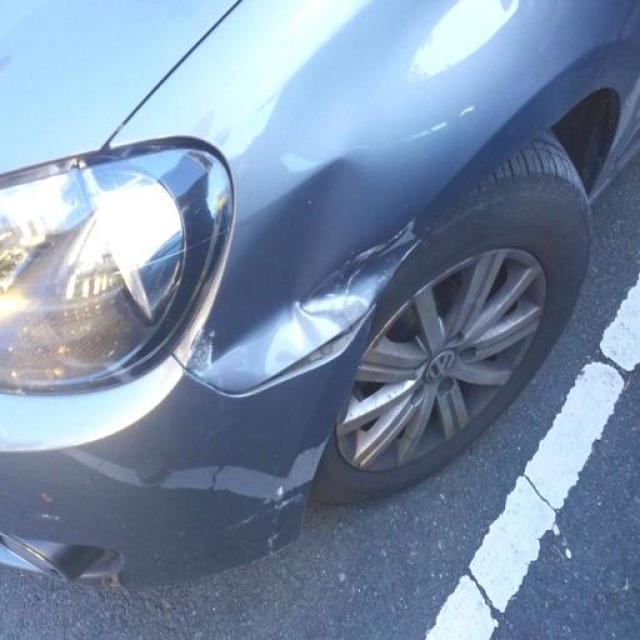car damage: (205, 160, 376, 348), (264, 218, 421, 378), (257, 473, 298, 560), (181, 327, 219, 377)
